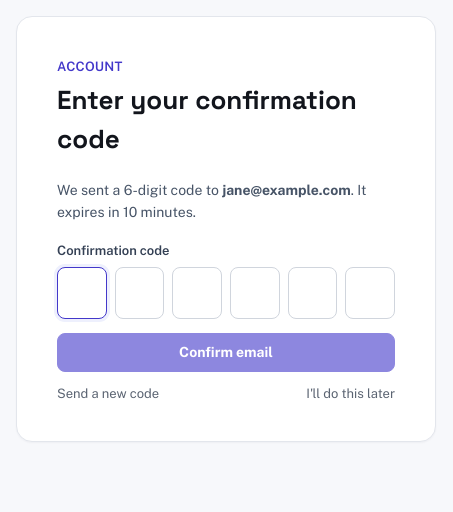
Test case: ConfirmEmail › resends a code and clears whatever was half-typed
Type "481" into the field named "Digit 1 of 6". click: (82, 293)
box: [57,267,107,319]
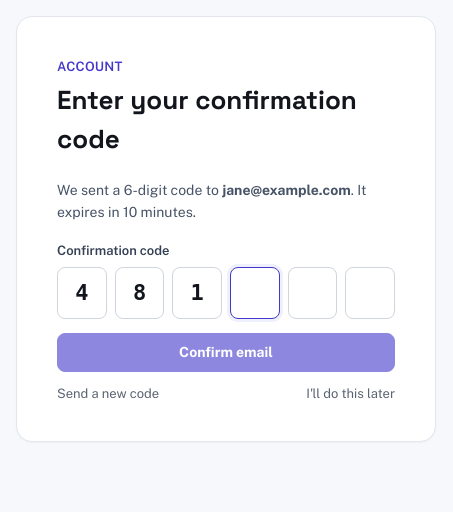
Click the button "Send a new code". click: (108, 393)
box: [57,386,159,401]
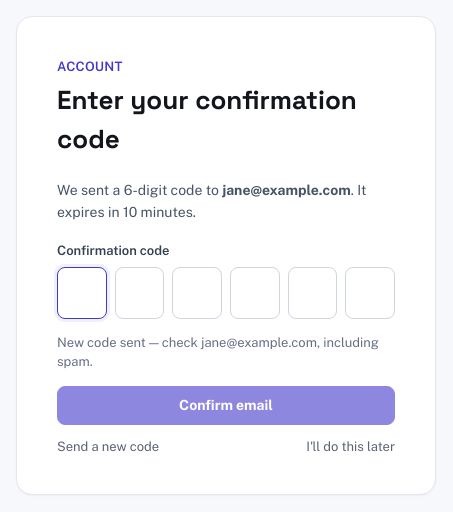
Result: the text "New code sent — check jane@example.com, including spam." is shown at [57,333,395,372]
Result: the field named "Digit 1 of 6" is empty at [57,267,107,319]
